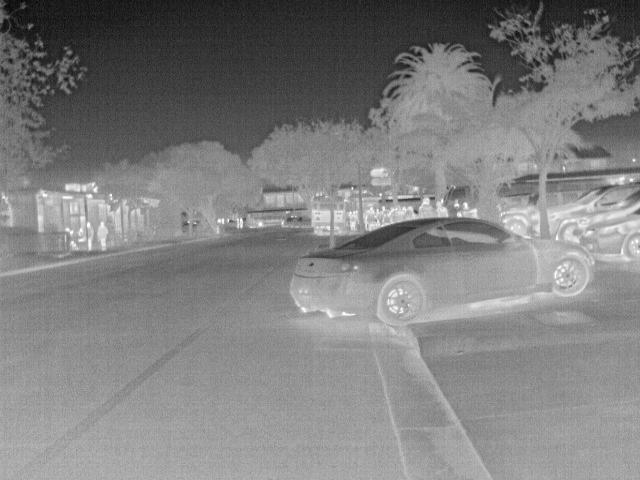car: (288, 216, 596, 325), (545, 184, 635, 244), (579, 212, 634, 263), (498, 207, 539, 237), (281, 214, 304, 228)
person: (416, 197, 437, 218), (63, 227, 81, 251), (95, 220, 109, 250), (81, 220, 94, 252), (365, 206, 380, 232), (431, 198, 449, 216), (348, 210, 361, 230), (74, 226, 89, 242), (238, 214, 245, 230), (235, 216, 241, 230)
